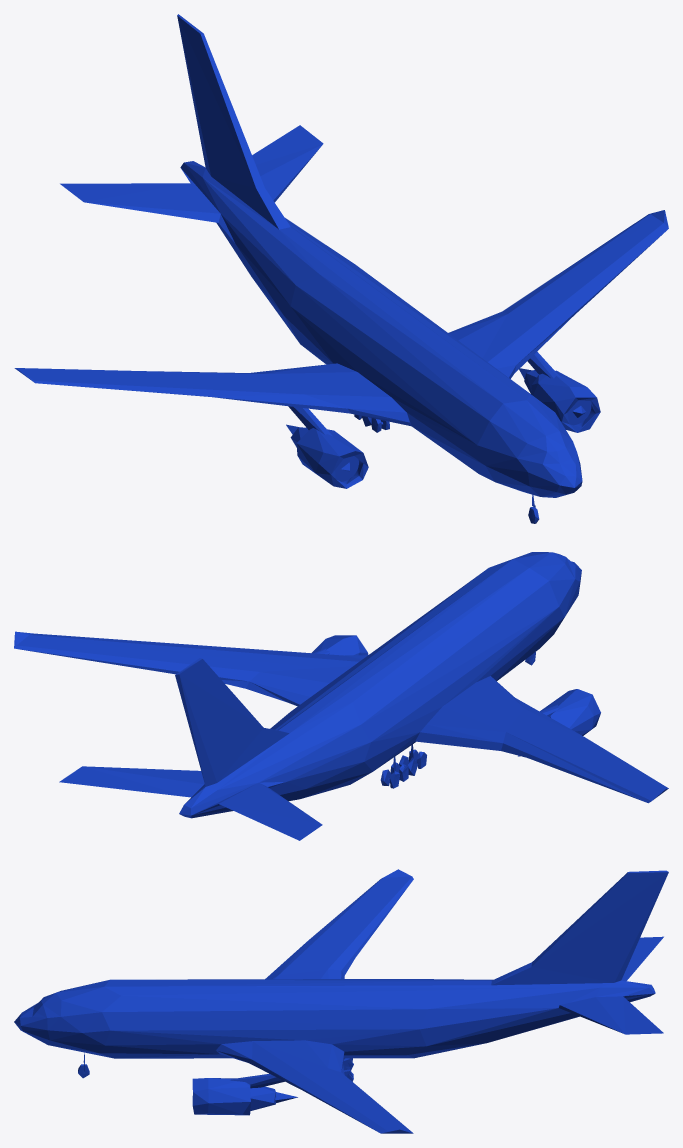
The model's file is aviao1.obj.
The picture shows the model from 3 angles, top to bottom: view 1: azimuth 30°, elevation 25°; view 2: azimuth 150°, elevation 25°; view 3: azimuth 270°, elevation 25°; orthographic projection. The views are drawn at different scales.
Visible parts, largest first — view 1: Plane3; view 2: Plane3; view 3: Plane3.
Part boxes in pixels (x1,y1,x2,y2): Plane3: (14,14,668,523); Plane3: (14,552,668,840); Plane3: (14,869,668,1133).
Size of the model in its own units: 17.34 by 6.41 by 18.42.
